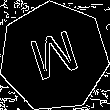M_S: (25, 26, 83, 88)
